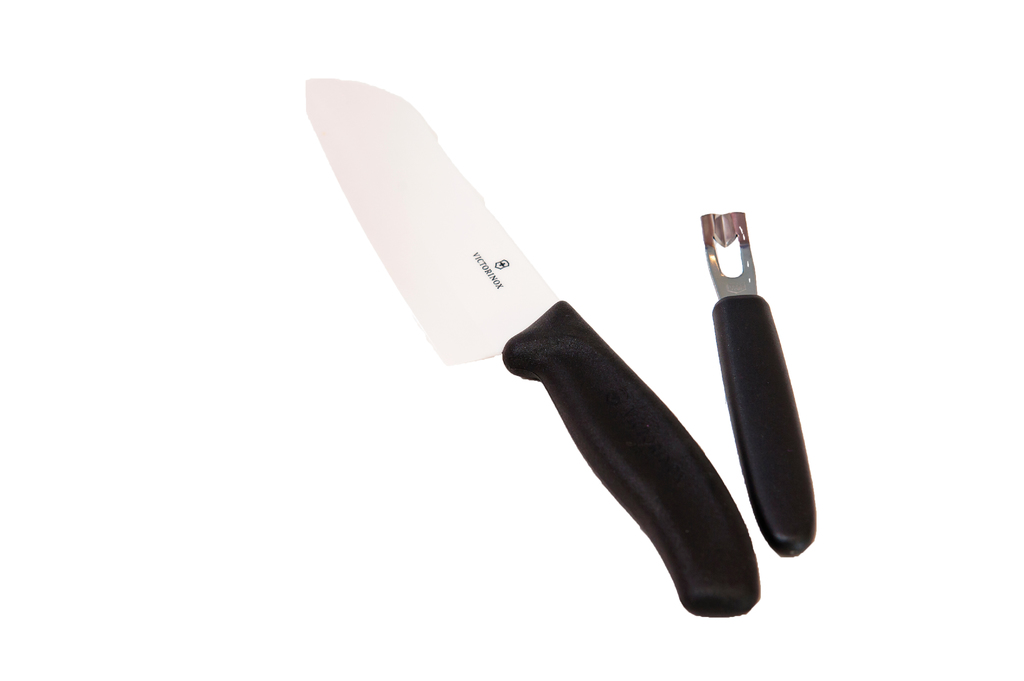knife: (304, 76, 761, 617)
